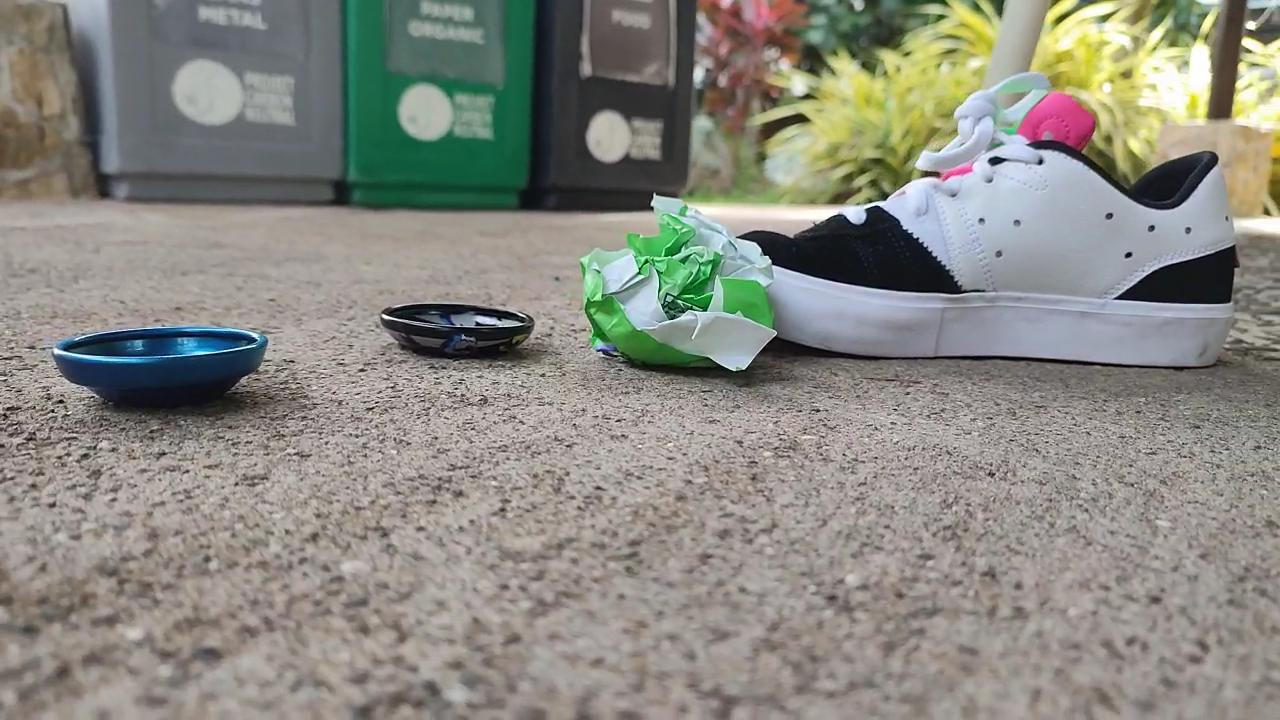Paper: (567, 179, 786, 398)
